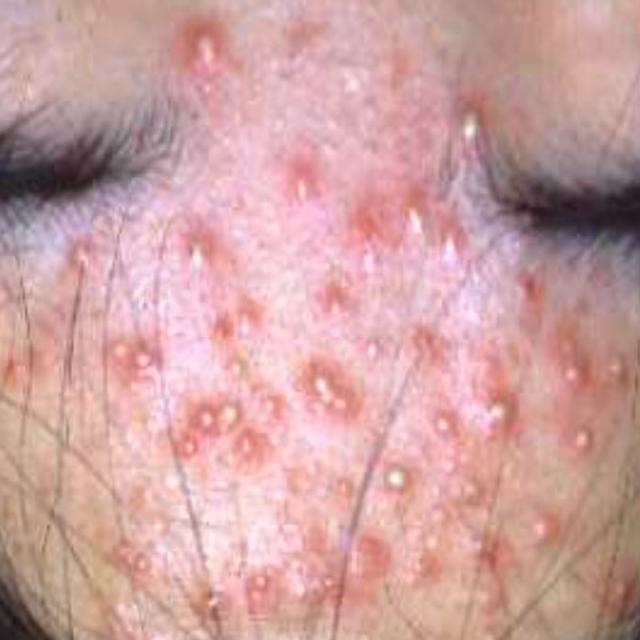pustule: (86, 4, 638, 640)
